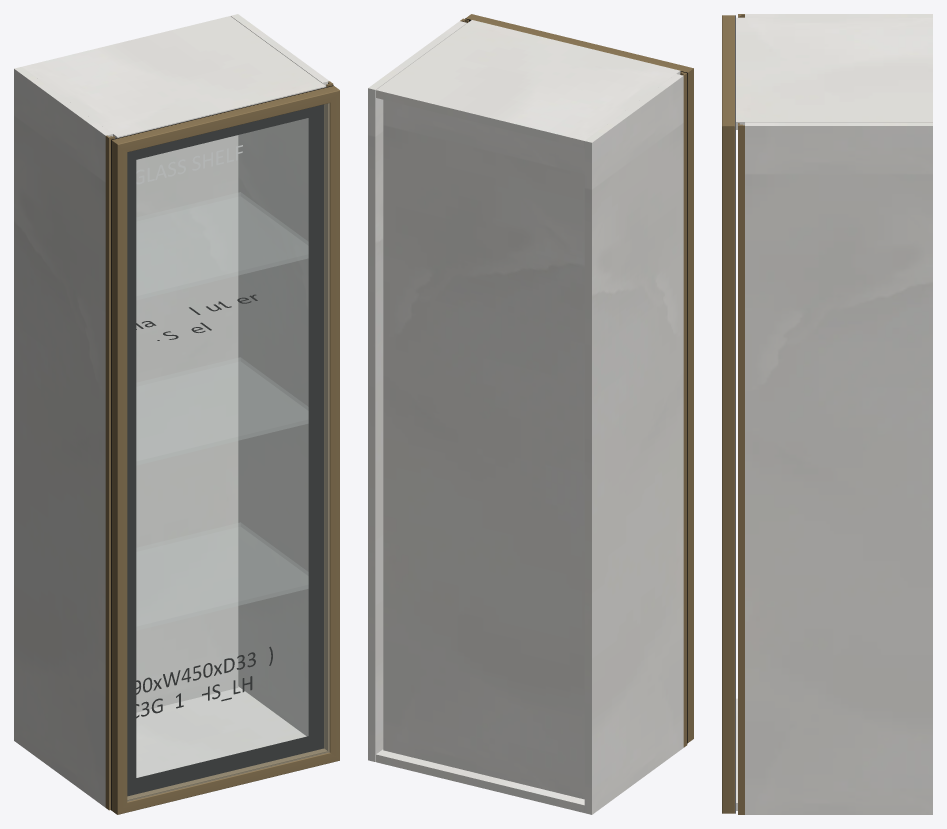
The model's file is MDW-SH-NHX-GL-3SG-LHS-XXX-450-1290-336-15.glb.
3 views of the same model, side by side, from view 1: azimuth 30°, elevation 25°; view 2: azimuth 150°, elevation 25°; view 3: azimuth 270°, elevation 25° (orthographic). The views are drawn at different scales.
Visible parts, largest first — view 1: Object_node_1, TP_node_0, TP_node_5, TP_node_1, Neon 22 Profile ALU PROF NEON 20 L21XH22.5MM 3MTR S2/405 SEC (×4), Object_node_3, TP, TP_node_2, TP_node_3, TP_node_4, TP_node, Object_node_5 (+2 smaller); view 2: TP_node_5, TP_node_0, TP, TP_node_1, Neon 22 Profile ALU PROF NEON 20 L21XH22.5MM 3MTR S2/405 SEC (×2), Object_node_5, TP_node, Object_node_3; view 3: TP_node_1, TP, Neon 22 Profile ALU PROF NEON 20 L21XH22.5MM 3MTR S2/405 SEC (×2), Object_node_11, Object_node_3, TP_node_0.
Boxes of the visible parts, x1=… form: Object_node_1: x1=127, y1=103, x2=329, y2=801; TP_node_0: x1=14, y1=67, x2=112, y2=807; TP_node_5: x1=136, y1=135, x2=238, y2=712; TP_node_1: x1=231, y1=14, x2=329, y2=736; Neon 22 Profile ALU PROF NEON 20 L21XH22.5MM 3MTR S2/405 SEC (×4): x1=111, y1=86, x2=339, y2=814; Object_node_3: x1=111, y1=85, x2=333, y2=810; TP: x1=22, y1=16, x2=325, y2=138; TP_node_2: x1=137, y1=523, x2=307, y2=629; TP_node_3: x1=137, y1=358, x2=307, y2=464; TP_node_4: x1=137, y1=192, x2=307, y2=299; TP_node: x1=136, y1=686, x2=306, y2=777; Object_node_5: x1=105, y1=135, x2=114, y2=810; TP_node_5: x1=383, y1=100, x2=584, y2=799; TP_node_0: x1=584, y1=74, x2=683, y2=814; TP: x1=376, y1=20, x2=680, y2=148; TP_node_1: x1=368, y1=21, x2=466, y2=761; Neon 22 Profile ALU PROF NEON 20 L21XH22.5MM 3MTR S2/405 SEC (×2): x1=465, y1=14, x2=693, y2=742; Object_node_5: x1=680, y1=71, x2=687, y2=747; TP_node: x1=376, y1=749, x2=584, y2=812; Object_node_3: x1=465, y1=18, x2=687, y2=743; TP_node_1: x1=745, y1=122, x2=932, y2=814; TP: x1=736, y1=17, x2=932, y2=129; Neon 22 Profile ALU PROF NEON 20 L21XH22.5MM 3MTR S2/405 SEC (×2): x1=722, y1=15, x2=734, y2=813; Object_node_11: x1=738, y1=123, x2=744, y2=814; Object_node_3: x1=735, y1=15, x2=735, y2=813; TP_node_0: x1=745, y1=14, x2=932, y2=17.
Size of what is drawn, in the model's own units: 0.45 by 1.29 by 0.358.
6 materials, 1 textured.
